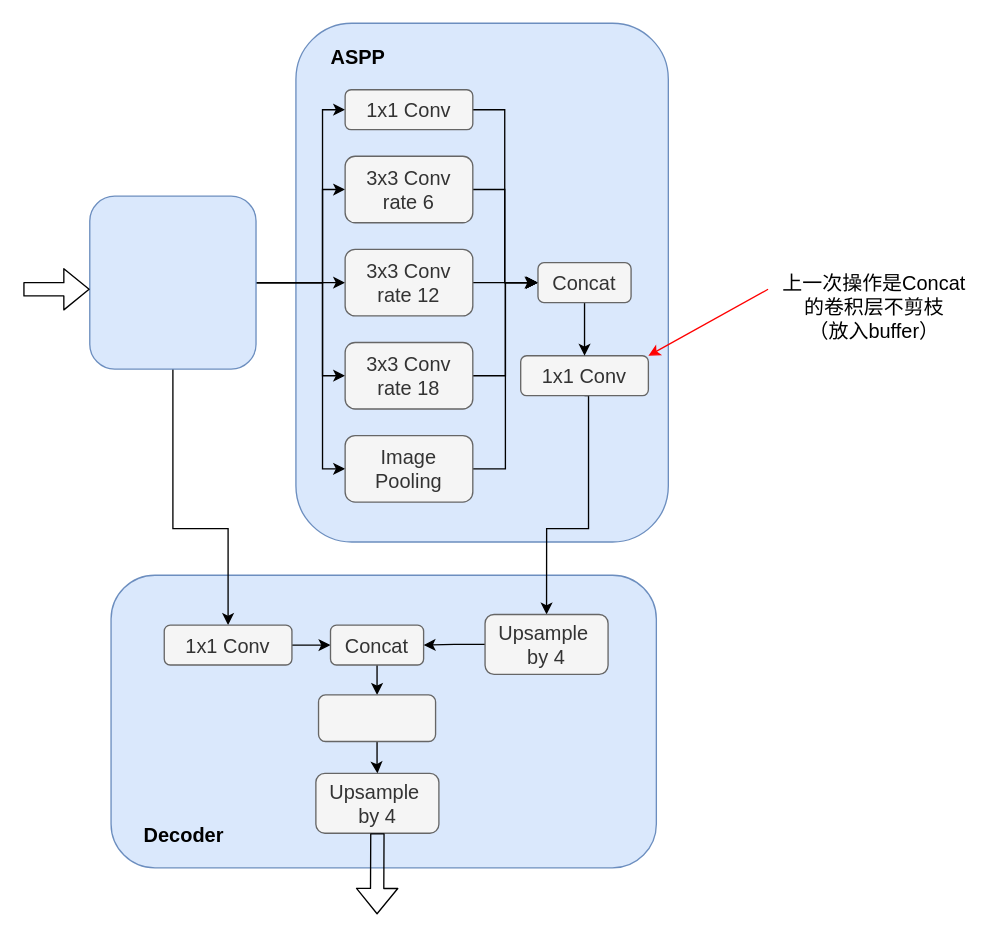
The diagram is 996 pixels wide and 938 high, and some of its shapes have lost their labels. Each missing label, with the centre of its shape:
3x3 Conv: pixel 376 717
Deep CNN: pixel 172 282
